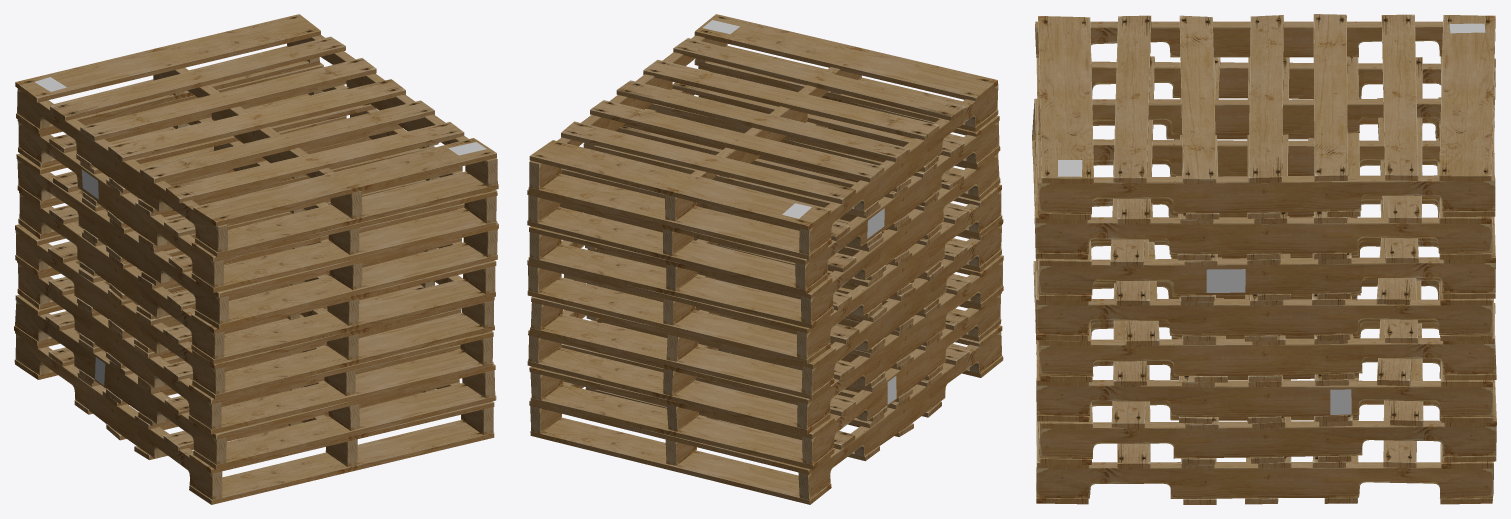
The model's file is Warehouse_Pallet_Stack.FBX.
3 renders of one model, left to right at view 1: azimuth 30°, elevation 25°; view 2: azimuth 150°, elevation 25°; view 3: azimuth 270°, elevation 25°, orthographic. The views are drawn at different scales.
Parts seen in each view (by area): view 1: Warehouse_Pallet_Stack; view 2: Warehouse_Pallet_Stack; view 3: Warehouse_Pallet_Stack.
Part boxes in pixels (box(x1,y1,x2,y2)): Warehouse_Pallet_Stack: box(14, 14, 498, 504); Warehouse_Pallet_Stack: box(527, 14, 1003, 504); Warehouse_Pallet_Stack: box(1032, 14, 1496, 504).
Bounding box in the file's own units: 41.26 × 38.48 × 48.88.
